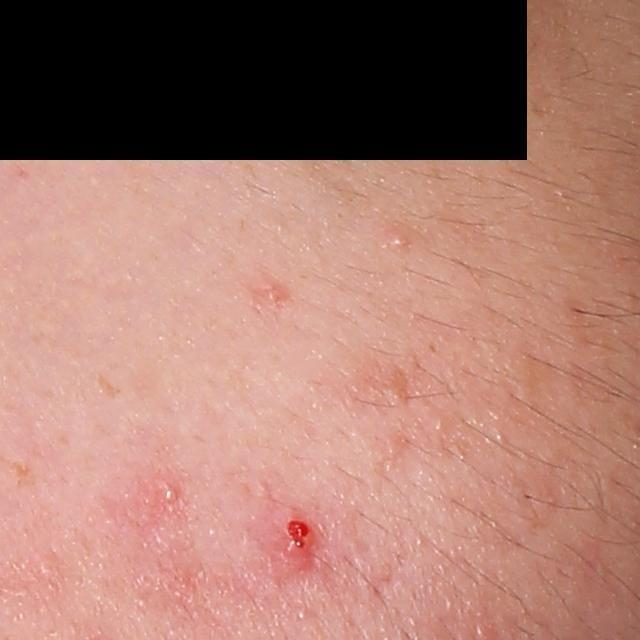comedo: (391, 232, 408, 249)
pustule: (151, 480, 178, 511)
